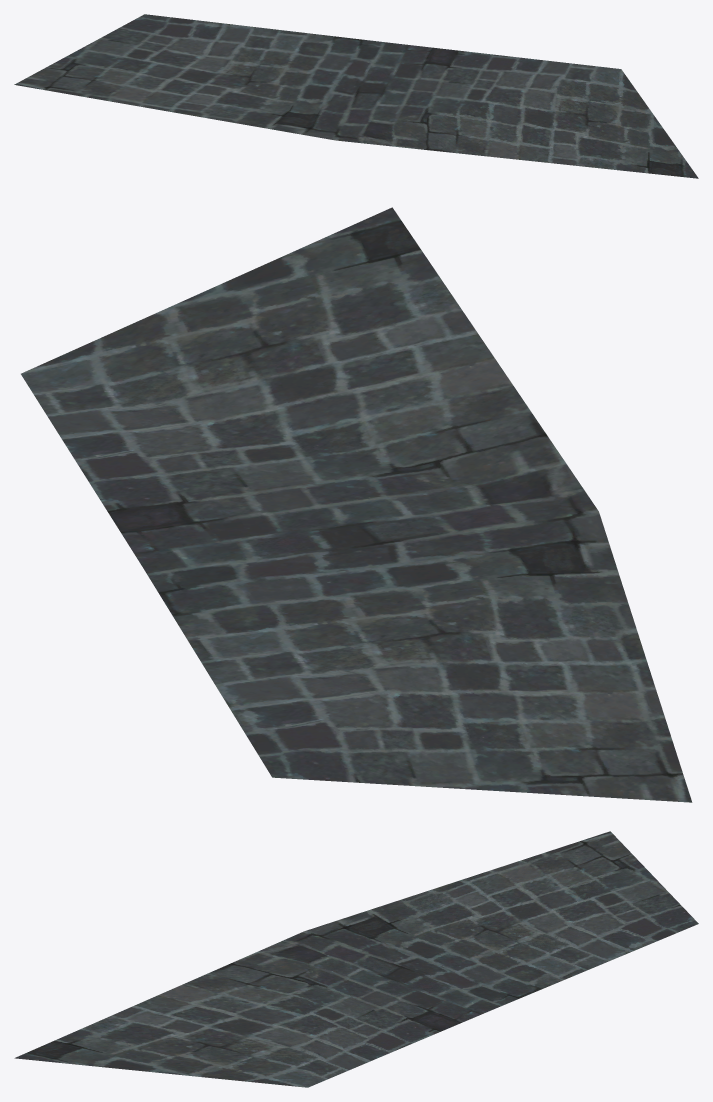
Rendered from blend_brick06.fbx.
The picture shows the model from 3 angles, top to bottom: view 1: azimuth 30°, elevation 25°; view 2: azimuth 150°, elevation 25°; view 3: azimuth 270°, elevation 25°; orthographic projection. The views are drawn at different scales.
Parts seen in each view (by area): view 1: obj0.005; view 2: obj0.005; view 3: obj0.005.
Part boxes in pixels (left/top/right/bottom): obj0.005: left=14, top=14, right=698, bottom=178; obj0.005: left=21, top=207, right=692, bottom=802; obj0.005: left=14, top=831, right=698, bottom=1087.
Bounding box in the file's own units: 5.83 × 1.38e-06 × 6.58.
